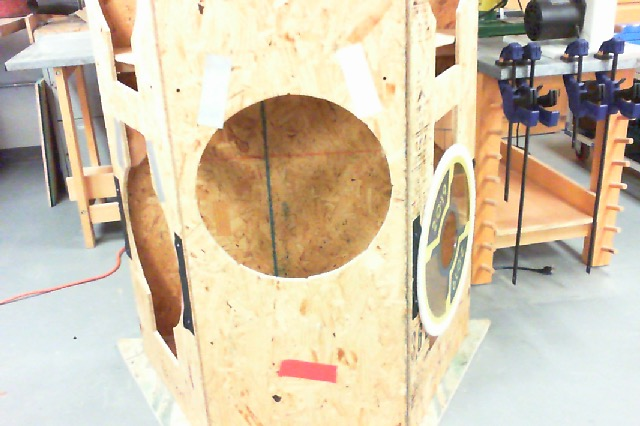Hatch: (416, 142, 476, 335)
Tape: (335, 44, 384, 119), (196, 54, 231, 129), (145, 137, 167, 202), (112, 117, 125, 168)
